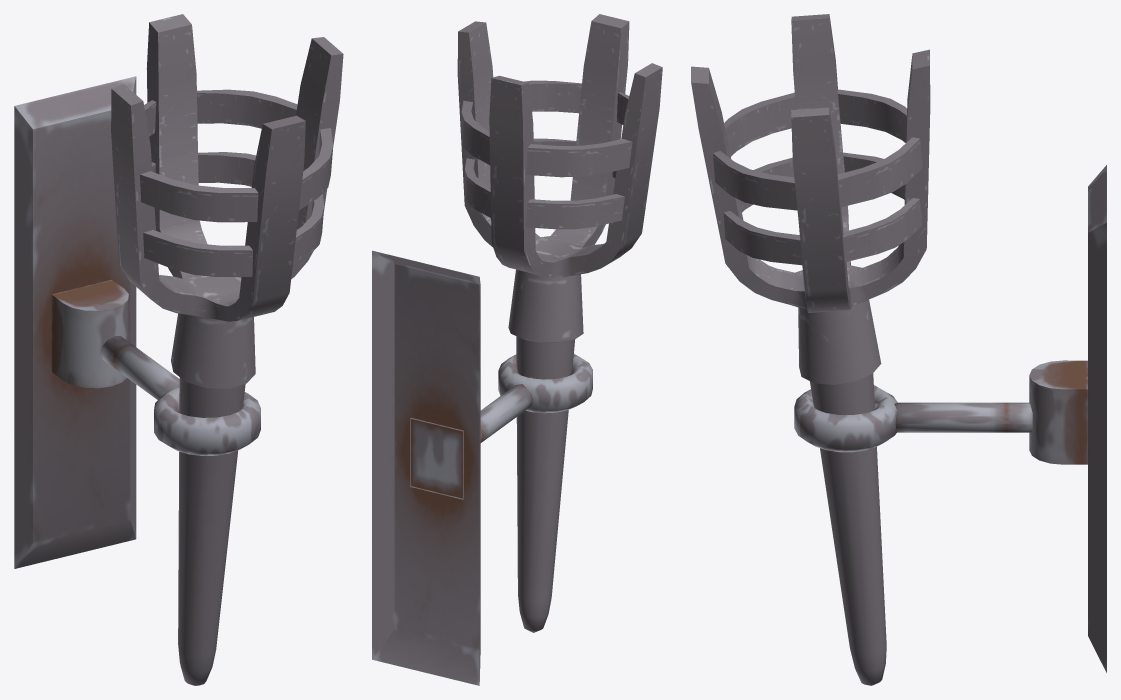
File: Torch_Metal.obj
3 views of the same model, side by side, from view 1: azimuth 30°, elevation 25°; view 2: azimuth 150°, elevation 25°; view 3: azimuth 270°, elevation 25° (orthographic). The views are drawn at different scales.
Parts seen in each view (by area): view 1: Torch_Metal_Plane.008; view 2: Torch_Metal_Plane.008; view 3: Torch_Metal_Plane.008.
Boxes of the visible parts, box(x1,y1,x2,y2) form: Torch_Metal_Plane.008: box(14, 14, 343, 685); Torch_Metal_Plane.008: box(372, 14, 662, 685); Torch_Metal_Plane.008: box(691, 14, 1106, 685).
Size of the model in its own units: 0.2232 by 0.6482 by 0.3884.
Materials: 1 (1 with a texture image).
